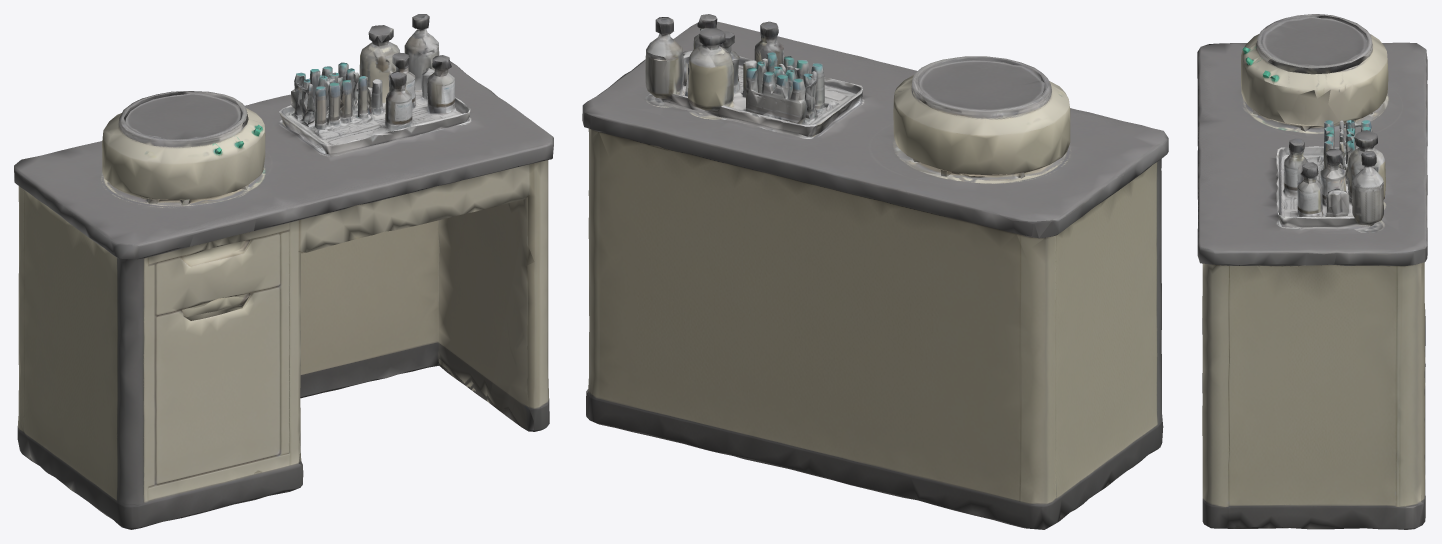
File: SD_CentrifugeBench.fbx
The picture shows the model from 3 angles, left to right: view 1: azimuth 30°, elevation 25°; view 2: azimuth 150°, elevation 25°; view 3: azimuth 270°, elevation 25°; orthographic projection. The views are drawn at different scales.
Visible parts, largest first — view 1: SD_CentrifugeBench_LOD0; view 2: SD_CentrifugeBench_LOD0; view 3: SD_CentrifugeBench_LOD0.
Part boxes in pixels (x1,y1,x2,y2): SD_CentrifugeBench_LOD0: [14, 14, 553, 529]; SD_CentrifugeBench_LOD0: [582, 14, 1168, 529]; SD_CentrifugeBench_LOD0: [1197, 14, 1427, 529].
Size of what is drawn, in the model's own units: 140 by 110 by 65.
